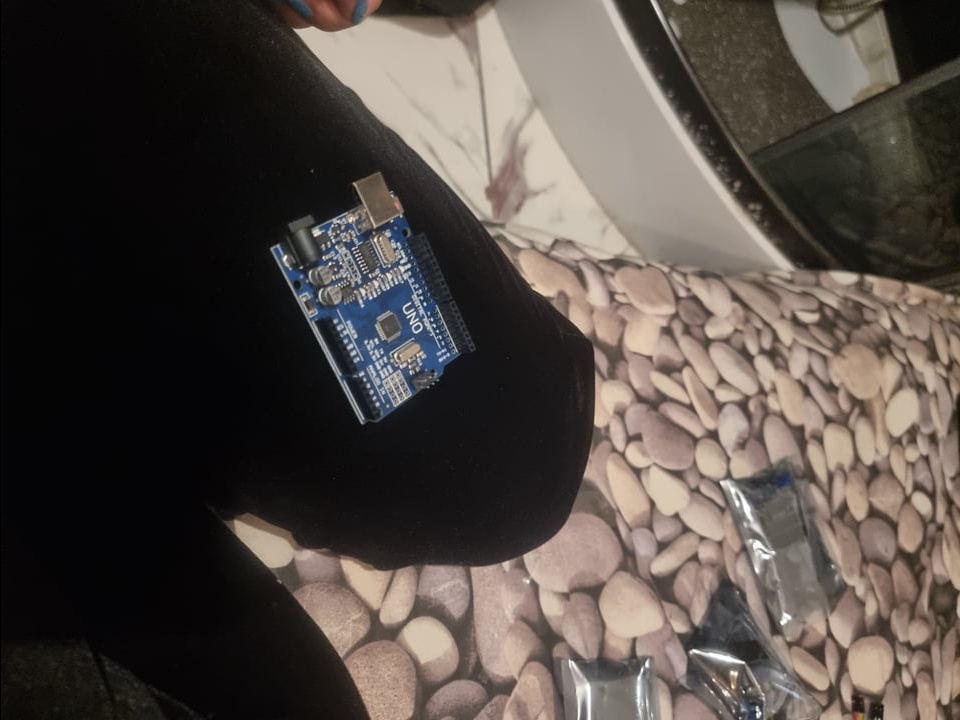UNO R3: (265, 170, 475, 425)
